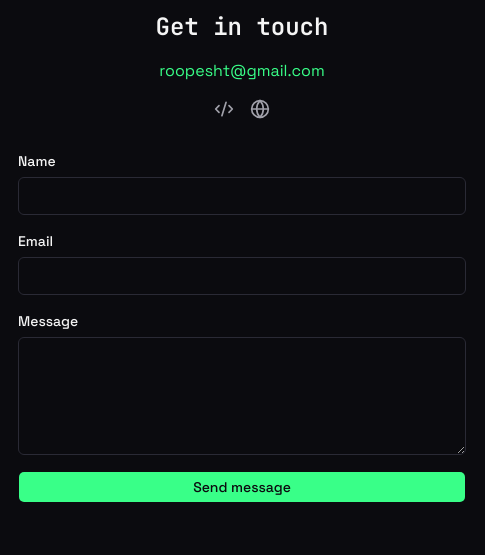
Contact (ST-057, ST-058, ST-059) › shows a success message after a successful submission
Step 1. Type "Ada Lovelace" into the field labelled "Name" → (242, 196), box [18,177,466,215]
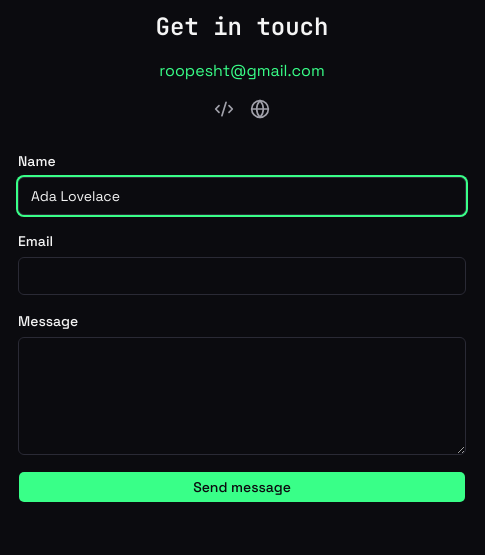
Step 2. Type "ada@example.com" into the field labelled "Email" → (242, 276), box [18,257,466,295]
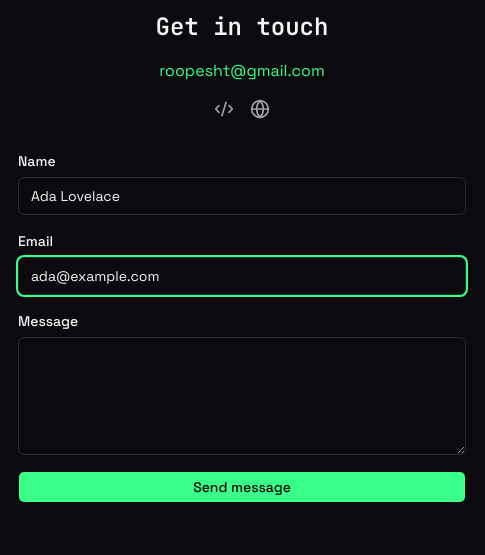
Step 3. Type "Hello!" into the text box labelled "Message" → (242, 396), box [18,337,466,455]
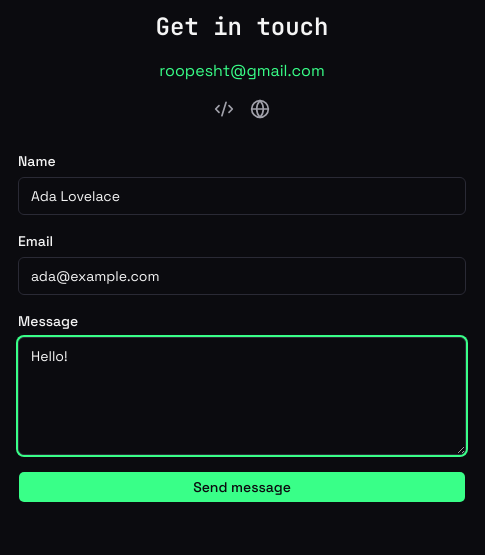
Step 4. Click the button "Send message" → click(242, 487), box [18,471,466,503]
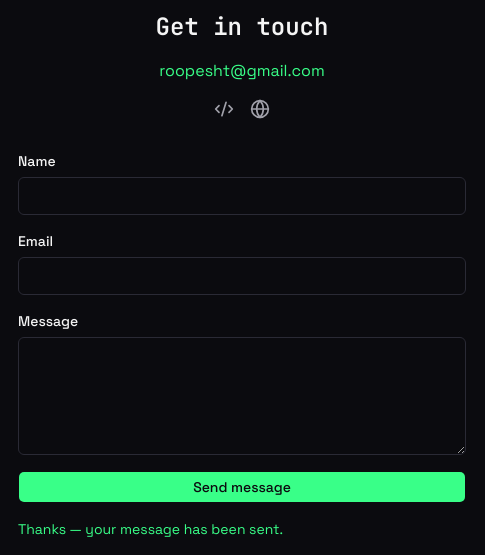
Expected: the message shows "Thanks", [18,520,283,538]
